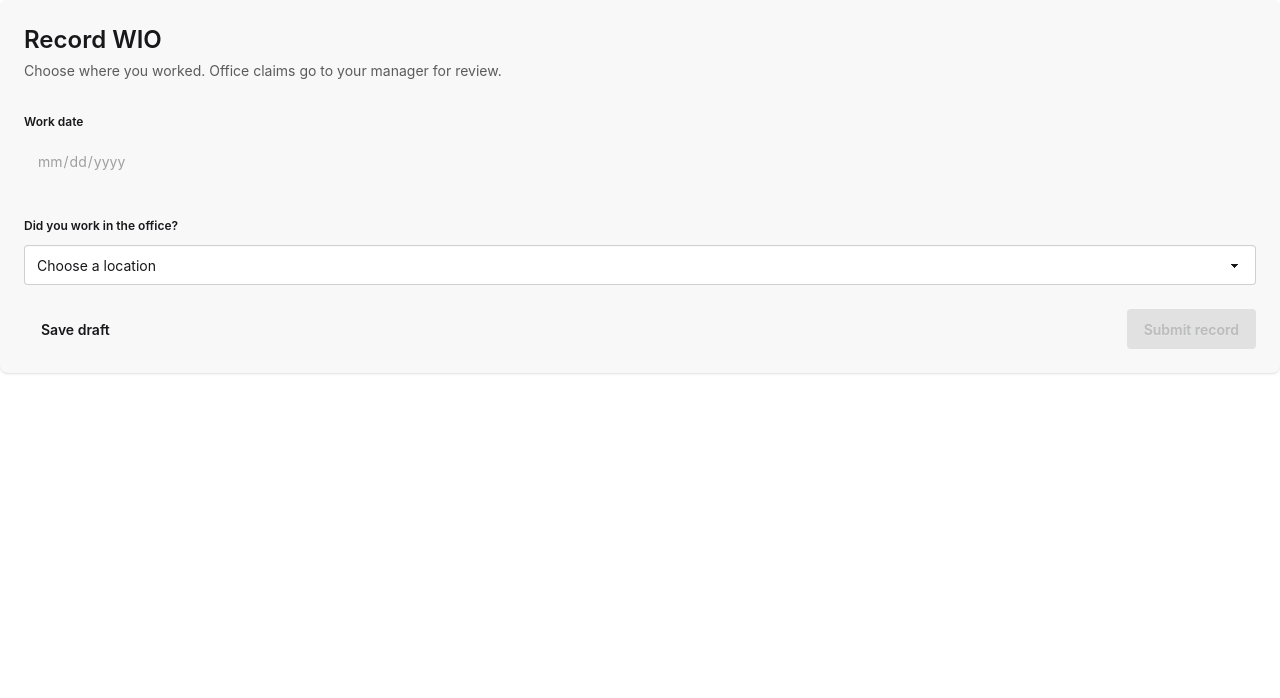
it: RecordForm › localizes field errors and focuses the first invalid control
The width and height of the screenshot is (1280, 698).
Select "Yes, in office" in the dropdown labelled "Did you work in the office?" at (640, 265), box [24,245,1256,285]
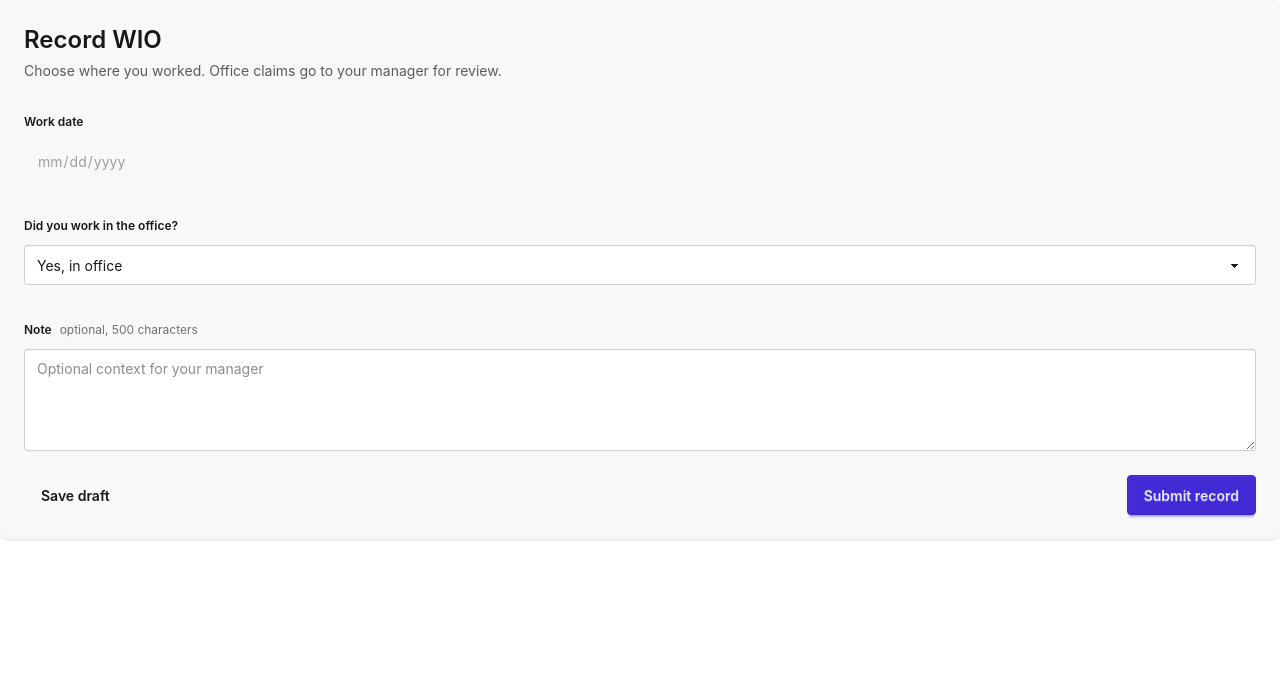
Click the button "Save draft" at (75, 495), box [24,475,127,515]
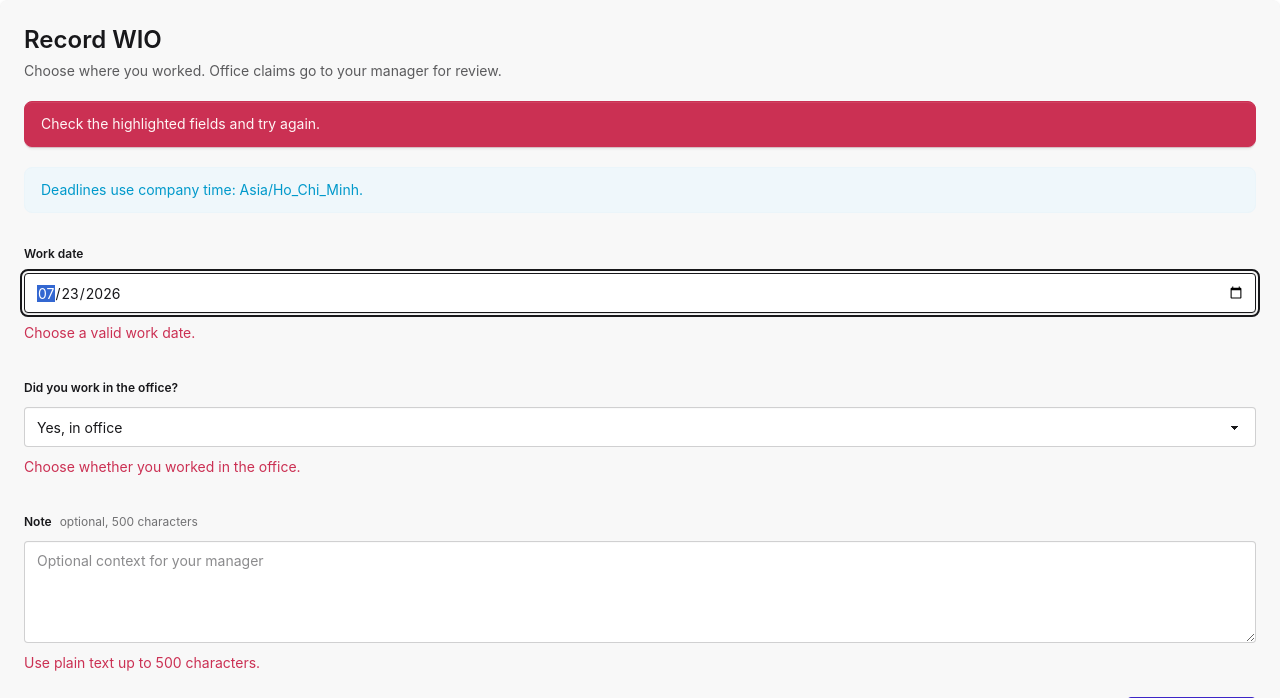
Check: the text "Choose a valid work date." is shown, box [24,324,195,341]
Check: the text "Choose whether you worked in the office." is shown, box [24,458,301,475]
Check: the text "Use plain text up to 500 characters." is shown, box [24,654,260,671]
